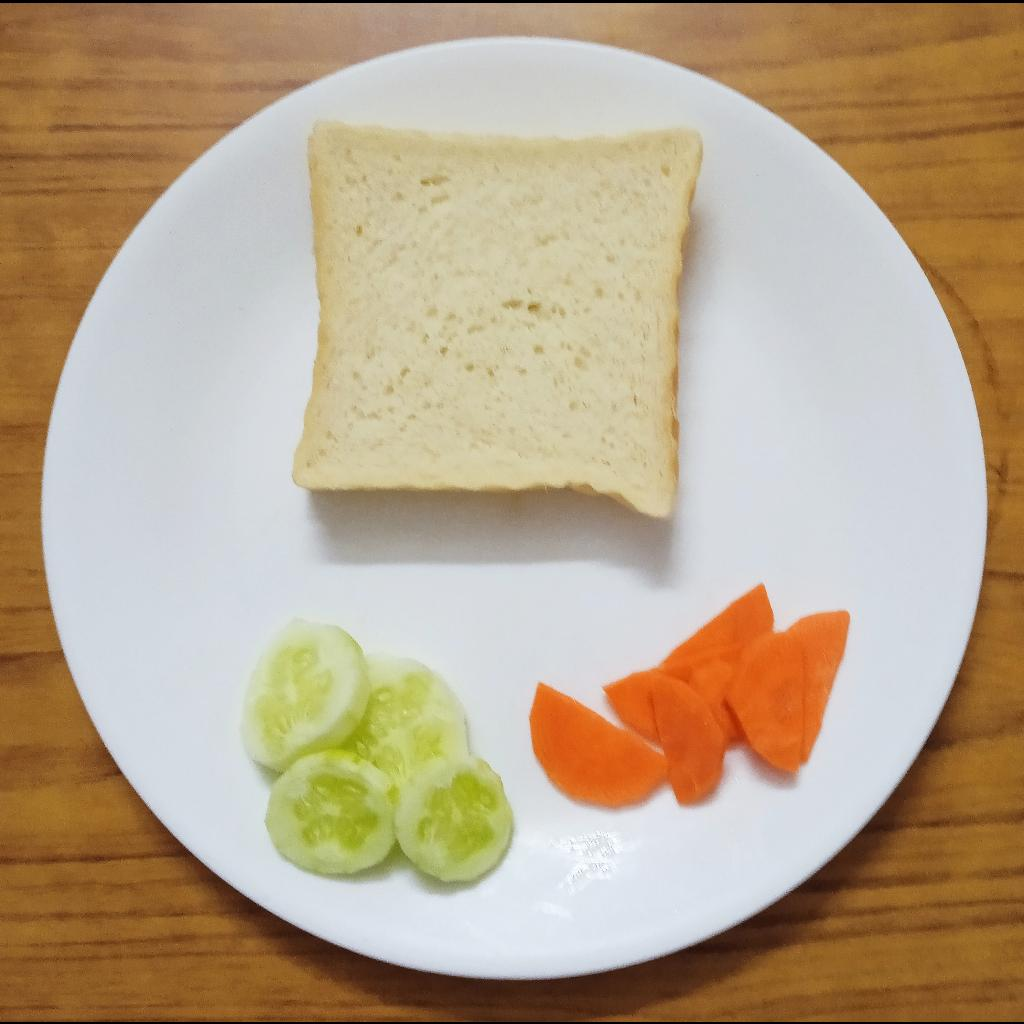bread: (292, 120, 703, 533)
carrot: (528, 580, 849, 806)
cucumber: (233, 621, 516, 882)
